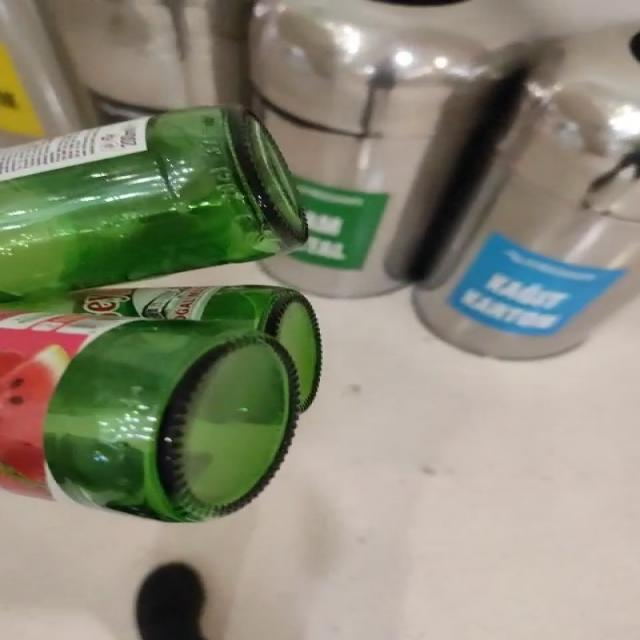bin: (251, 0, 533, 298)
glass: (0, 105, 321, 522)
